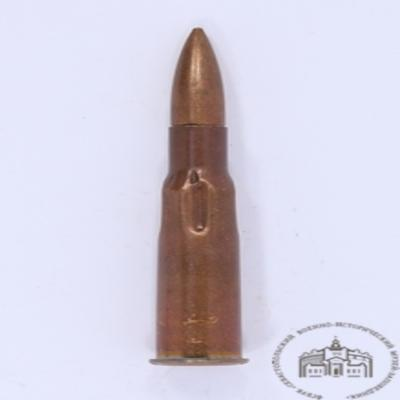weapon: (149, 27, 247, 368)
